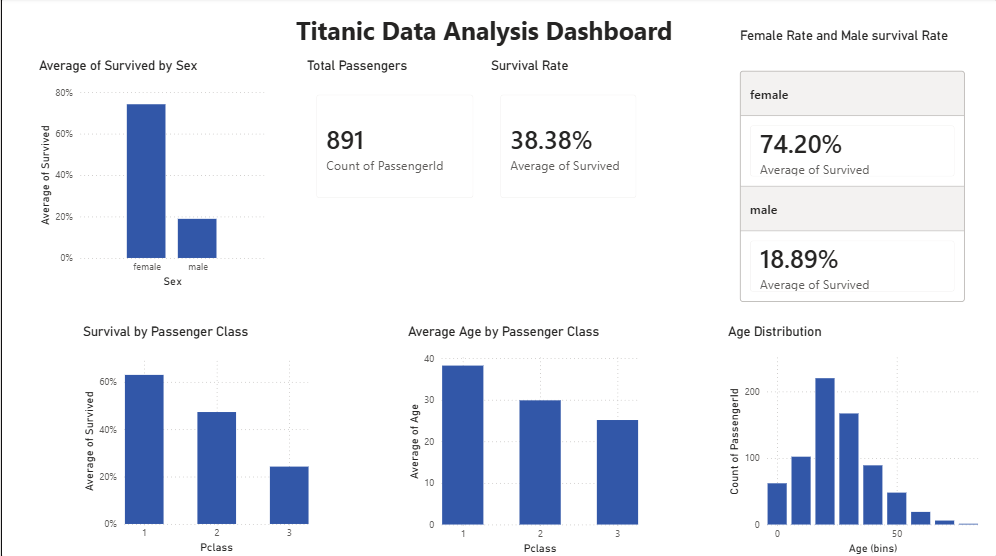

What the dashboard file says about the page in this screenshot:
{"tool":"powerbi","page":{"name":"Page 1","canvas":[1280,720],"ordinal":0},"visuals":[{"type":"cardVisual","title":"Total Passengers","fields":{"Data":["CountNonNull(train.PassengerId)"]},"box":[388.1,77.1,236.5,197.9],"z":0},{"type":"cardVisual","title":"Survival Rate","fields":{"Data":["Avg(train.Survived)"]},"box":[624.6,77.1,209.5,197.9],"z":1000},{"type":"clusteredColumnChart","fields":{"Category":["train.Sex"],"Y":["Avg(train.Survived)"]},"box":[43.7,77.1,300,300],"z":2000},{"type":"clusteredColumnChart","title":"Survival by Passenger Class","fields":{"Y":["Avg(train.Survived)"],"Category":["train.Pclass"]},"box":[100.2,419,300,300],"z":3000},{"type":"clusteredColumnChart","title":"Average Age by Passenger Class","fields":{"Category":["train.Pclass"],"Y":["Avg(train.Age)"]},"box":[517.9,419,305.9,300.7],"z":4000},{"type":"clusteredColumnChart","title":"Age Distribution ","fields":{"Y":["CountNonNull(train.PassengerId)"],"Category":["train.Age (bins)"]},"box":[929.2,419,331.6,300.7],"z":5000},{"type":"cardVisual","title":"Female Rate and Male survival Rate","fields":{"Data":["Avg(train.Survived)"],"Rows":["train.Sex"]},"box":[944.6,38.6,299.4,377.8],"z":5001},{"type":"textbox","box":[374,14.1,501.2,63],"z":5002}]}

Visuals, with their boxes in screenshot pixels (x1, y1, x2, y2), scaled from the page's 1280x720 canvas onto the 996x556 screenshot:
"Total Passengers" cardVisual: [x1=302, y1=60, x2=486, y2=212]
"Survival Rate" cardVisual: [x1=486, y1=60, x2=649, y2=212]
clusteredColumnChart - train.Sex x Avg(train.Survived): [x1=34, y1=60, x2=267, y2=291]
"Survival by Passenger Class" clusteredColumnChart: [x1=78, y1=324, x2=311, y2=555]
"Average Age by Passenger Class" clusteredColumnChart: [x1=403, y1=324, x2=641, y2=555]
"Age Distribution " clusteredColumnChart: [x1=723, y1=324, x2=981, y2=555]
"Female Rate and Male survival Rate" cardVisual: [x1=735, y1=30, x2=968, y2=322]
textbox: [x1=291, y1=11, x2=681, y2=60]
